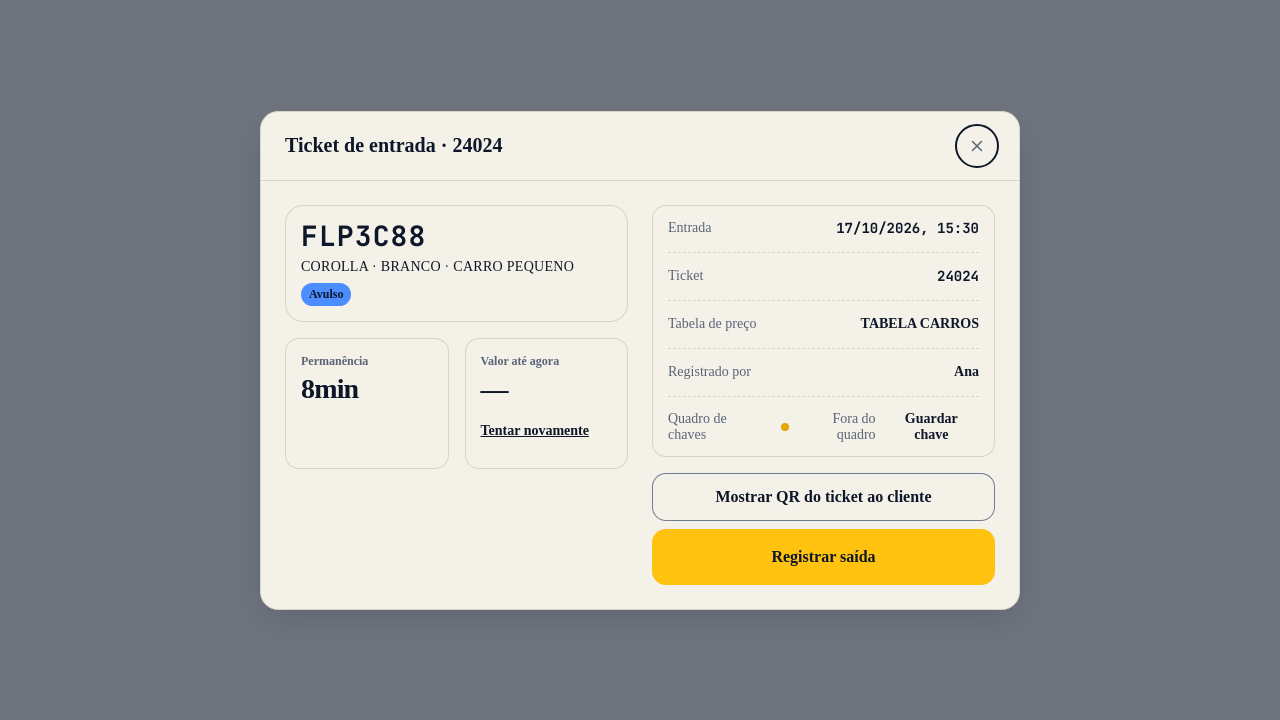
Test: TicketView: dados › falha no valor mostra traço e deixa tentar de novo, sem derrubar o ticket
This screenshot has width=1280, height=720.
Expected: the text "FLP3C88" is shown, left=301, top=216, right=426, bottom=254
Click the button "Tentar novamente". click: (535, 431)
box: left=480, top=409, right=589, bottom=453
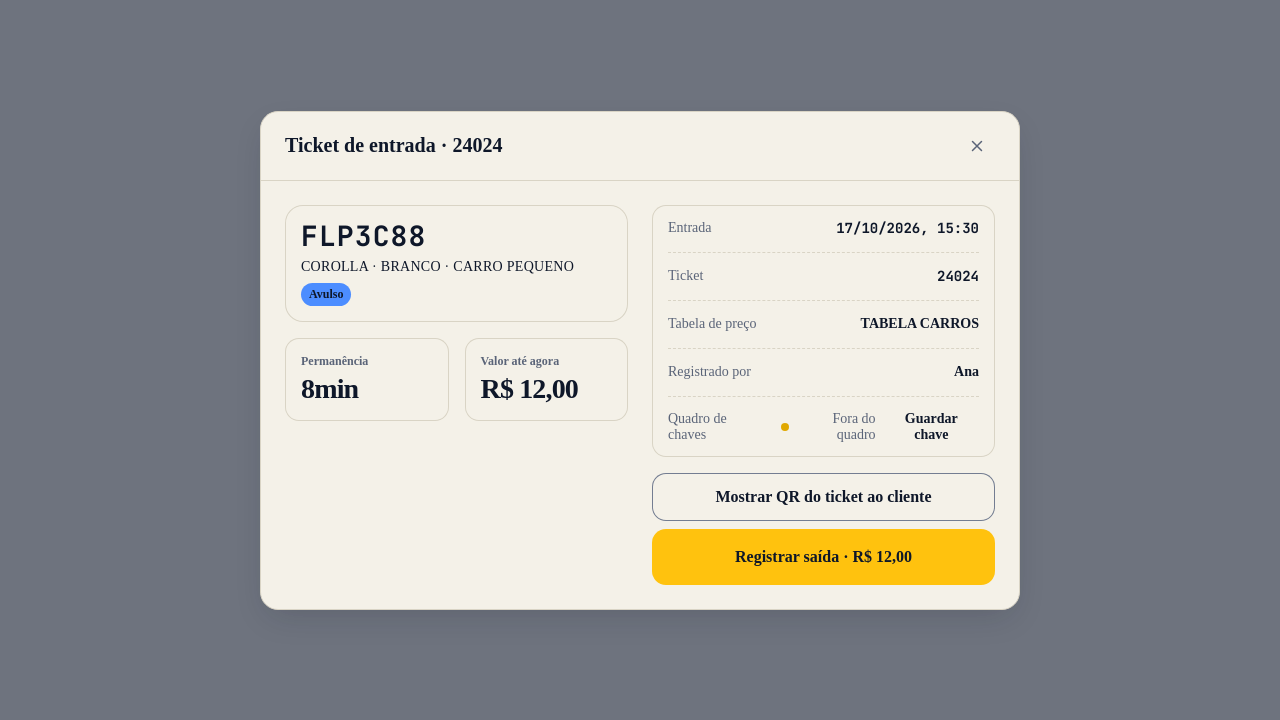
Expected: the text "R$ 12,00" is shown, left=480, top=373, right=578, bottom=404
